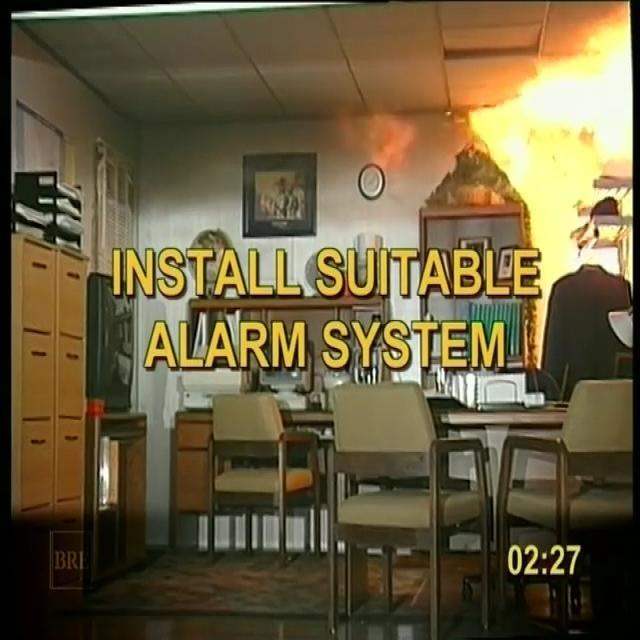Fire: (388, 0, 634, 260)
